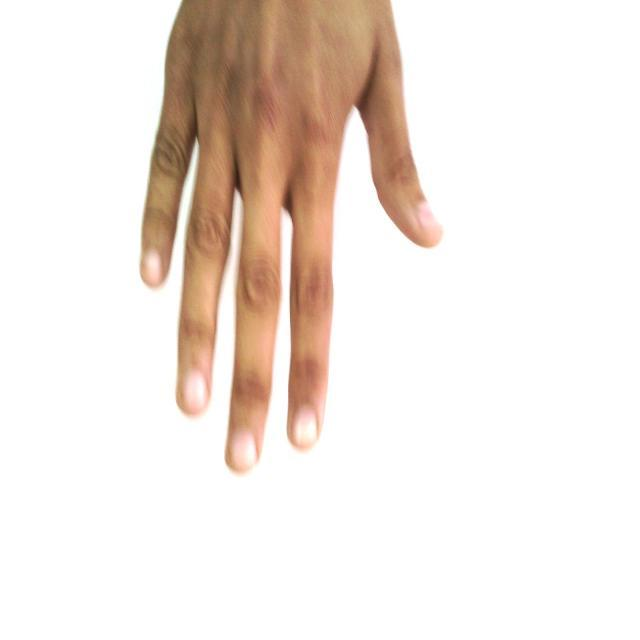Fingernail: (294, 408, 317, 448), (232, 432, 256, 470), (184, 374, 206, 412), (144, 251, 162, 283), (419, 203, 438, 231)
